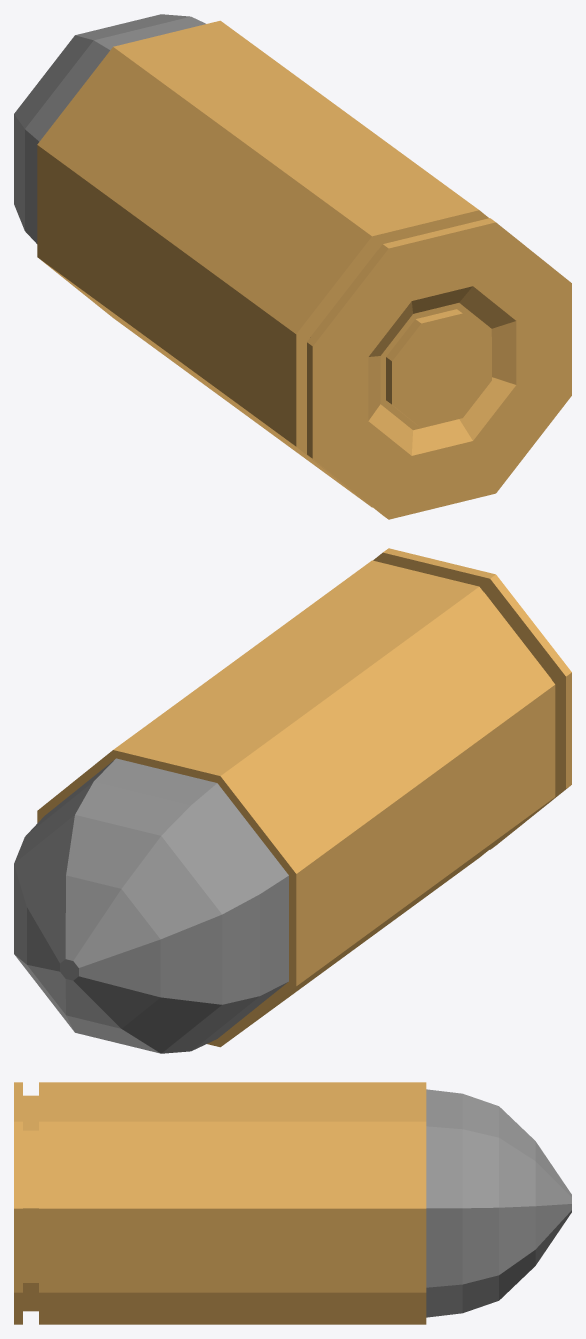
The model's file is Revolver bullet.fbx.
The picture shows the model from 3 angles, top to bottom: view 1: azimuth 30°, elevation 25°; view 2: azimuth 150°, elevation 25°; view 3: azimuth 270°, elevation 25°; orthographic projection. The views are drawn at different scales.
Visible parts, largest first — view 1: Bullet; view 2: Bullet; view 3: Bullet.
Part boxes in pixels (x1=…): Bullet: x1=14, y1=14, x2=571, y2=519; Bullet: x1=14, y1=548, x2=571, y2=1053; Bullet: x1=14, y1=1082, x2=571, y2=1324.
Size of the model in its own units: 1.61 by 4 by 1.61.
